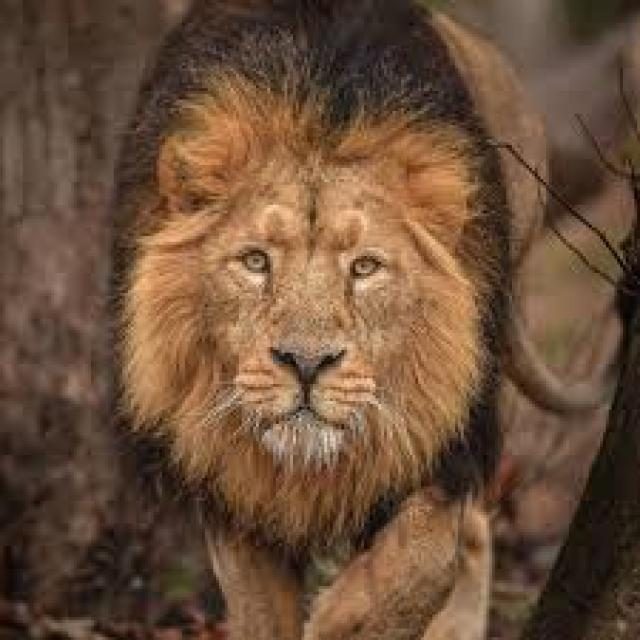Lion: (106, 9, 546, 637)
